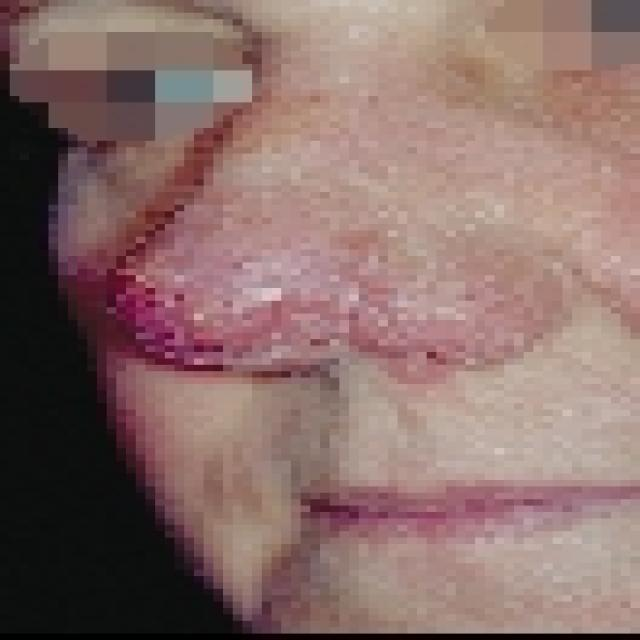lupus: (84, 238, 294, 388)
